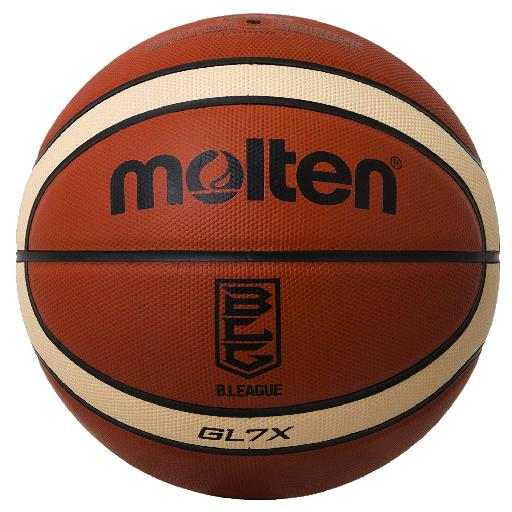ball: (17, 14, 499, 498)
